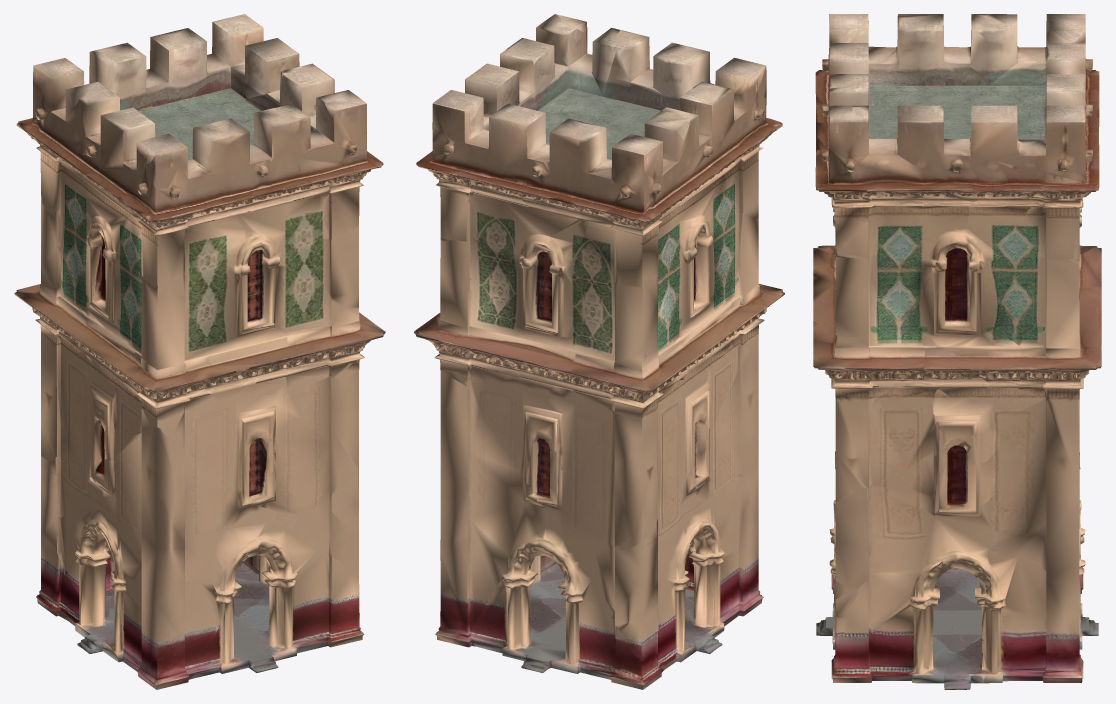
File: Meshy_AI_Moroccan_palace_corne_0808145701_texture.glb
The picture shows the model from 3 angles, left to right: view 1: azimuth 30°, elevation 25°; view 2: azimuth 150°, elevation 25°; view 3: azimuth 270°, elevation 25°; orthographic projection. The views are drawn at different scales.
Parts seen in each view (by area): view 1: mesh_node; view 2: mesh_node; view 3: mesh_node.
Boxes of the visible parts, box(x1,y1,x2,y2) form: mesh_node: box(14, 14, 385, 689); mesh_node: box(414, 14, 784, 689); mesh_node: box(813, 14, 1101, 689).
Bounding box in the file's own units: 0.8834 × 1.9 × 0.8833.
Materials: 1 (1 with a texture image).
